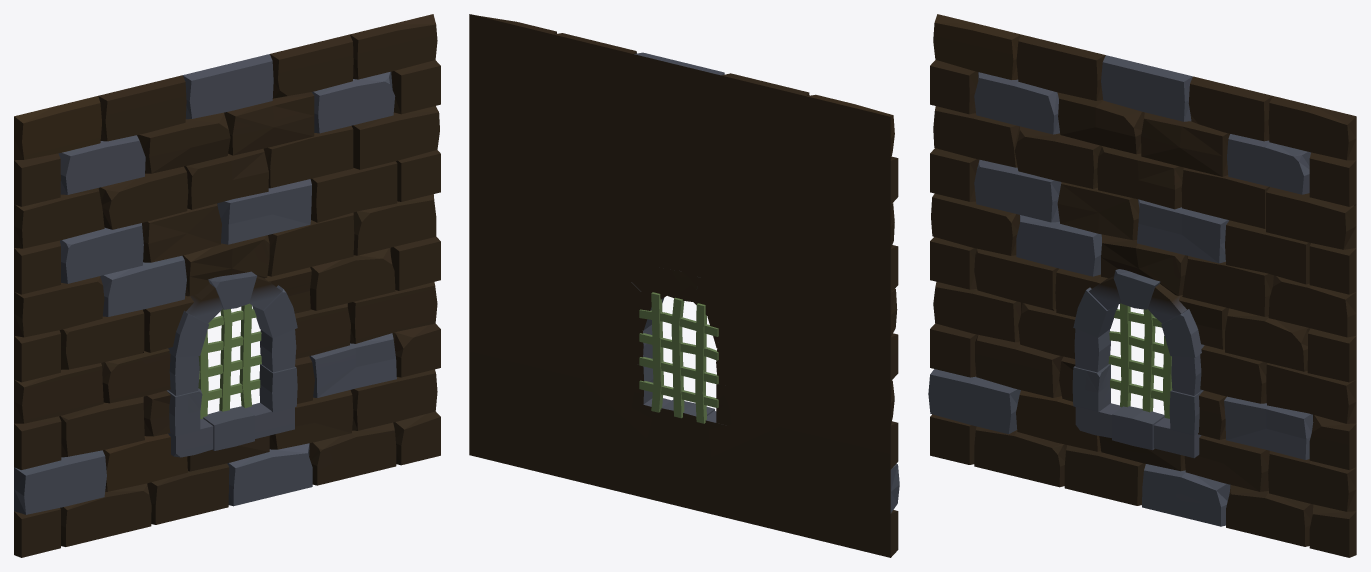
File: Wall_36.fbx
3 renders of one model, left to right at view 1: azimuth 30°, elevation 25°; view 2: azimuth 150°, elevation 25°; view 3: azimuth 330°, elevation 25°, orthographic.
Parts seen in each view (by area): view 1: Wall_36; view 2: Wall_36; view 3: Wall_36.
Boxes of the visible parts, x1,y1,x2,y2 form: Wall_36: [14, 14, 440, 557]; Wall_36: [469, 14, 899, 557]; Wall_36: [928, 14, 1356, 557].
Bounding box in the file's own units: 4 × 4 × 0.2393.
